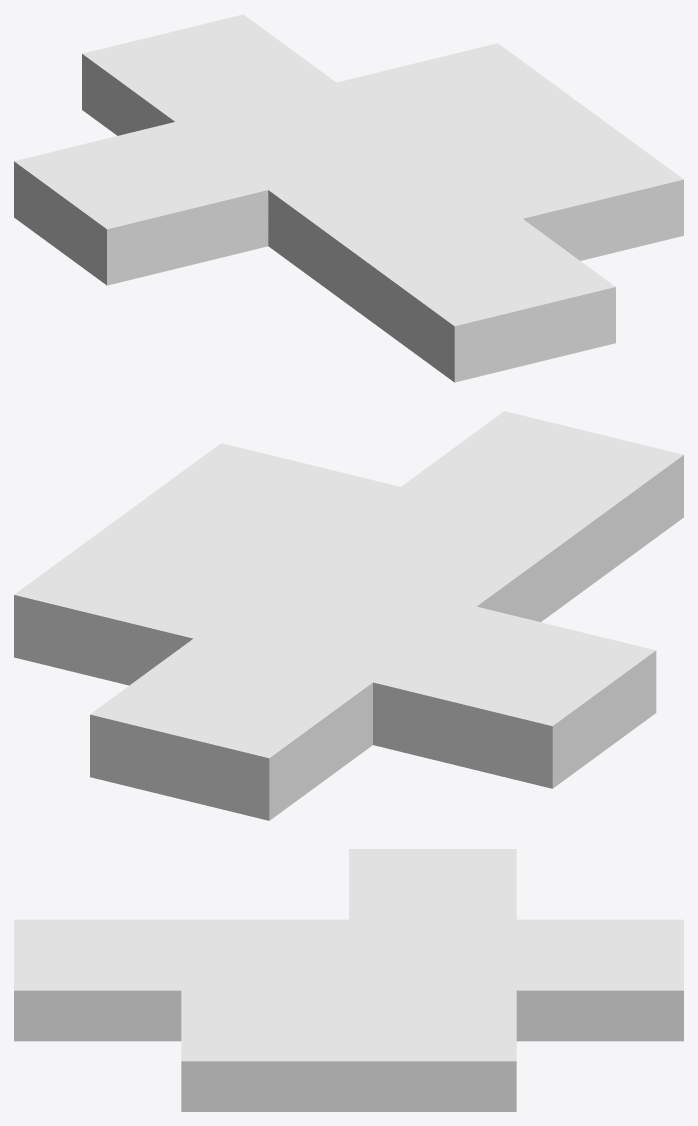
File: cloud3.gltf
3 renders of one model, top to bottom at view 1: azimuth 30°, elevation 25°; view 2: azimuth 150°, elevation 25°; view 3: azimuth 270°, elevation 25°, orthographic. The views are drawn at different scales.
Parts seen in each view (by area): view 1: cloud3; view 2: cloud3; view 3: cloud3.
Boxes of the visible parts, x1,y1,x2,y2 form: cloud3: (14,14,683,382); cloud3: (14,411,683,820); cloud3: (14,849,683,1111).
Size of the model in its own units: 36 by 4 by 48.
1 material, 1 textured.
